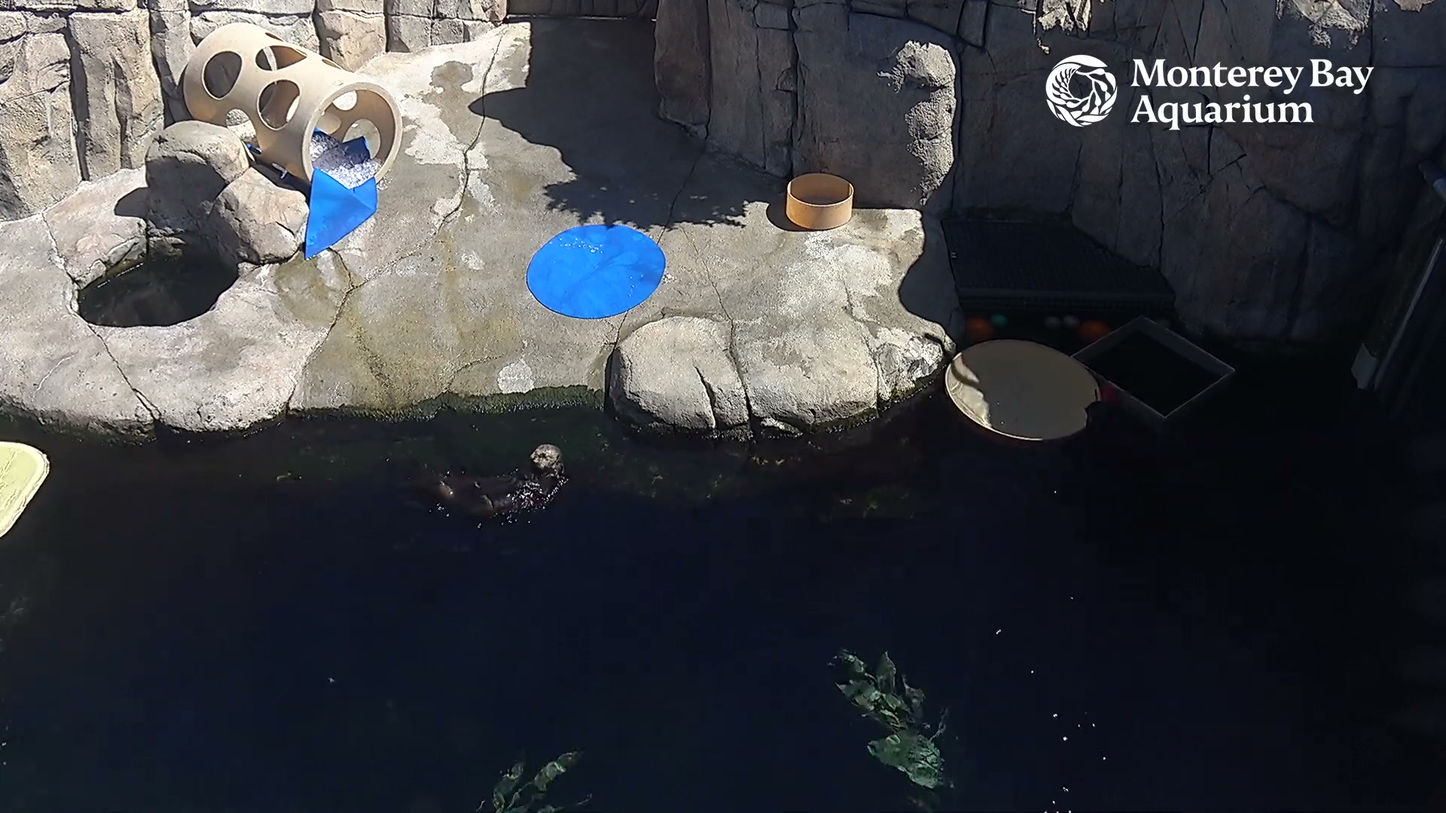Southern Sea Otter: (398, 442, 610, 542)
